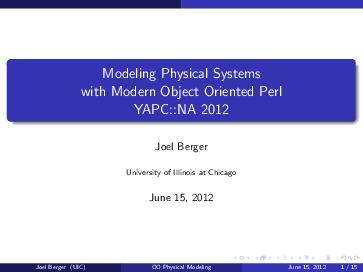subtitle: (124, 131, 253, 211)
title: (66, 61, 306, 120)
